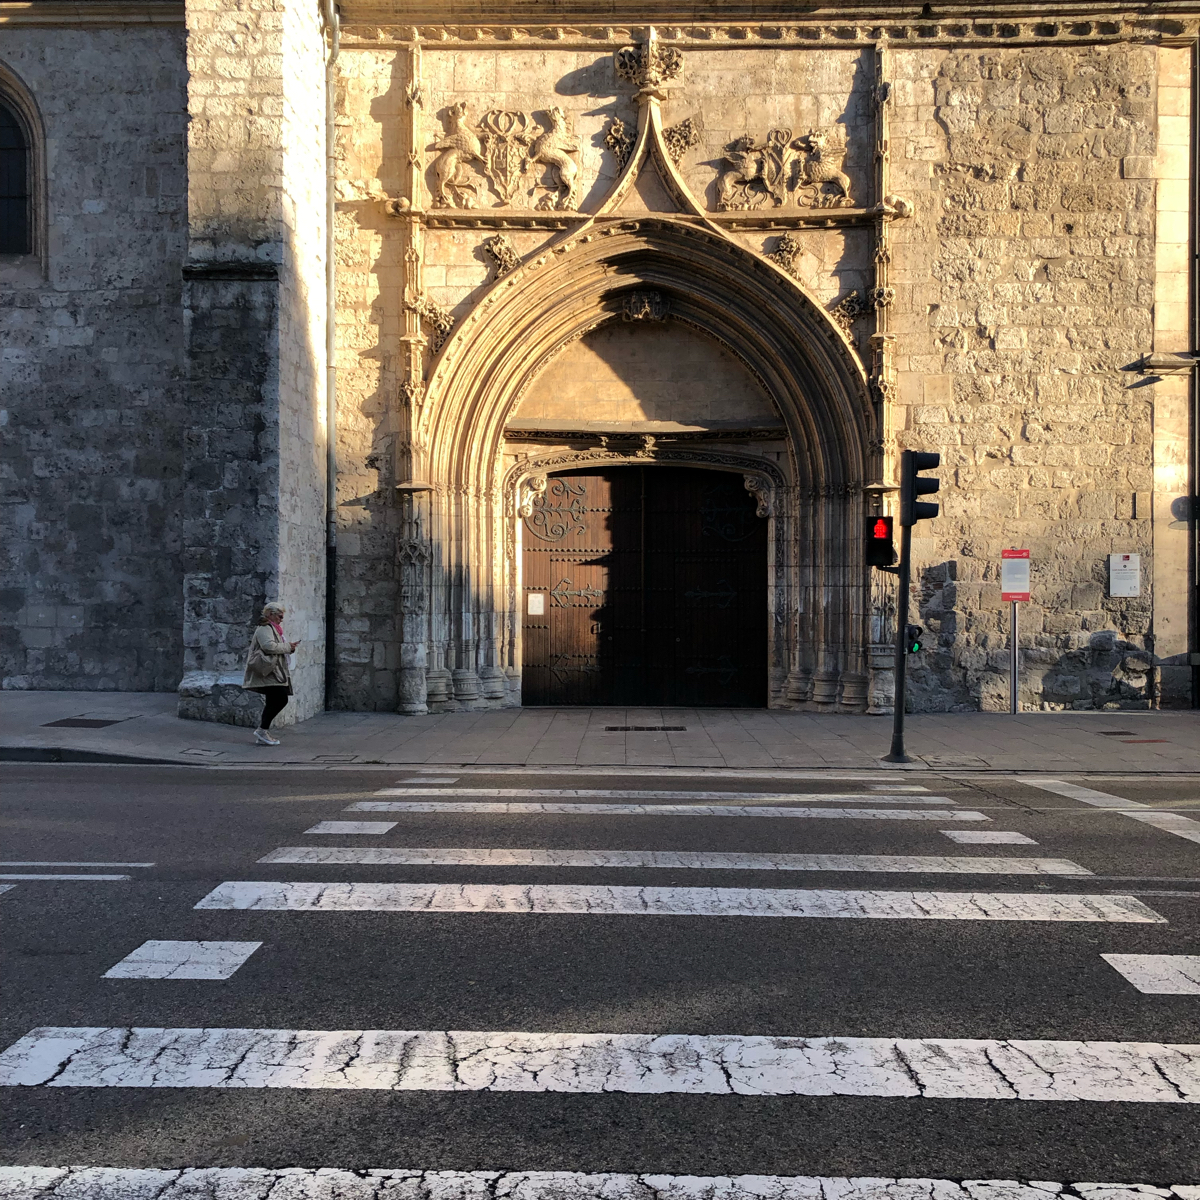arco-apuntado: (445, 233, 855, 485)
arco-conopial: (519, 98, 774, 268)
